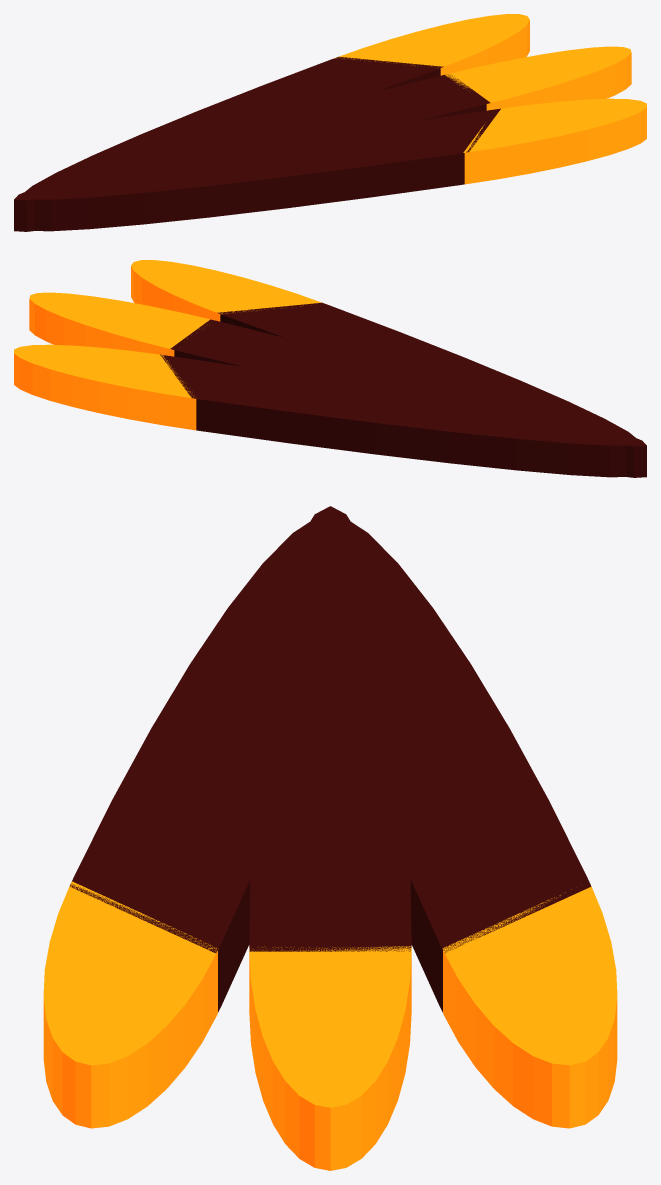
The model's file is dragonfoot.fbx.
3 renders of one model, top to bottom at view 1: azimuth 30°, elevation 25°; view 2: azimuth 150°, elevation 25°; view 3: azimuth 270°, elevation 25°, orthographic. The views are drawn at different scales.
Parts seen in each view (by area): view 1: Cylinder; view 2: Cylinder; view 3: Cylinder.
Part boxes in pixels (left/top/right/bottom): Cylinder: left=14, top=14, right=646, bottom=231; Cylinder: left=14, top=260, right=646, bottom=477; Cylinder: left=43, top=506, right=617, bottom=1170.
Size of the model in its own units: 107 by 5.25 by 43.3.
